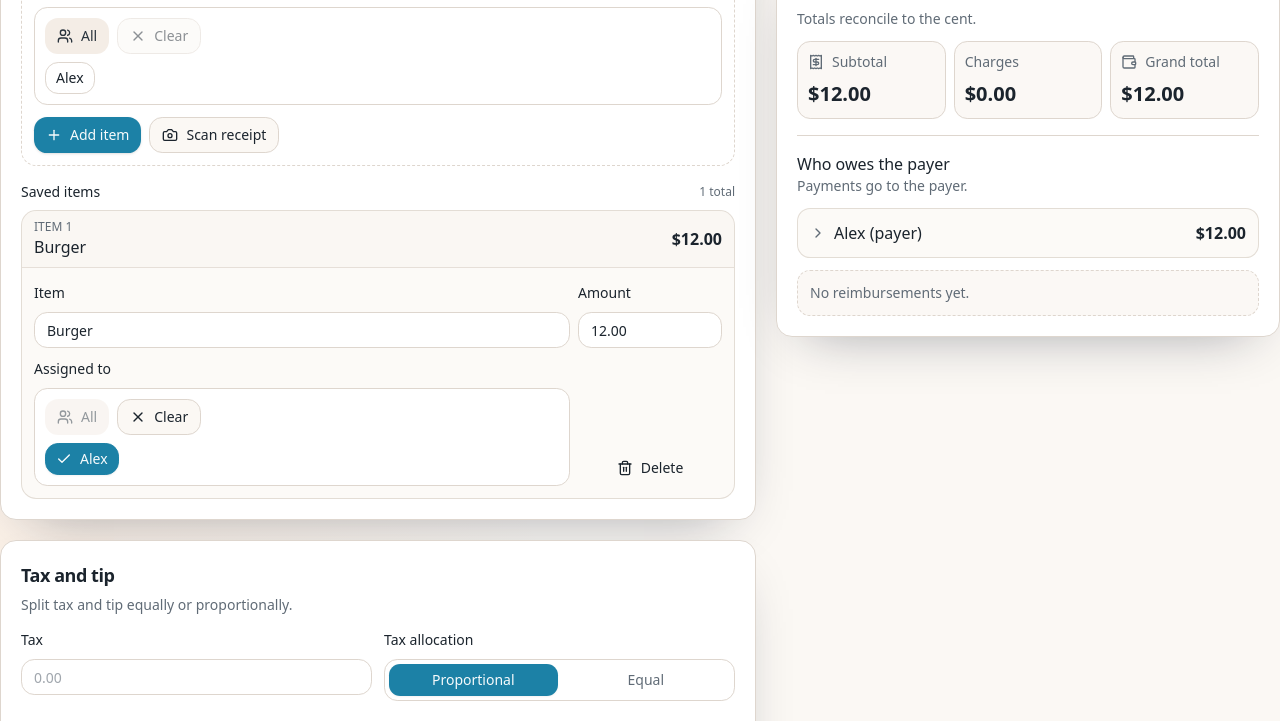
Test: SplitEditorPage › does not save while an existing item edit is invalid but uncommitted
The image size is (1280, 721).
(page scrolled)
Replace the text in the 2nd field labelled "Amount" with "0" at {"x": 650, "y": 330}, box [578,312,722,348]
(page scrolled)
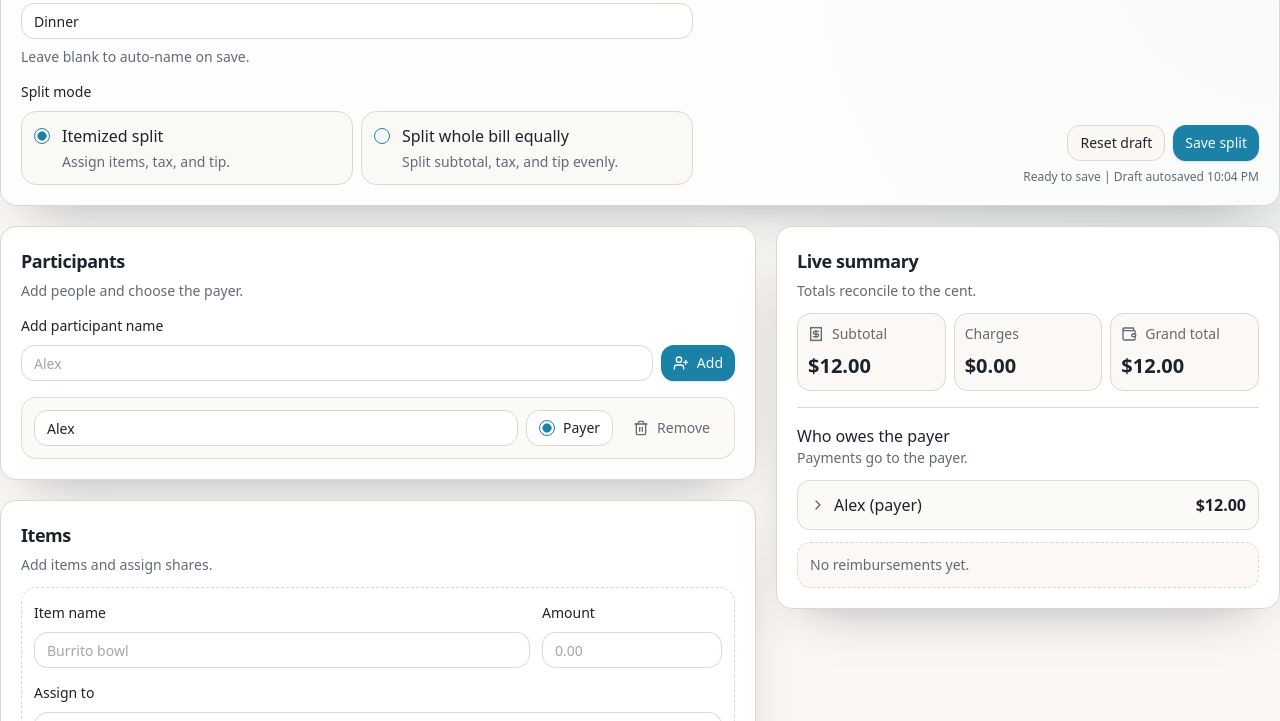
Click the button "Save split".
click(1216, 143)  # box [1173,125,1259,161]
(page scrolled)
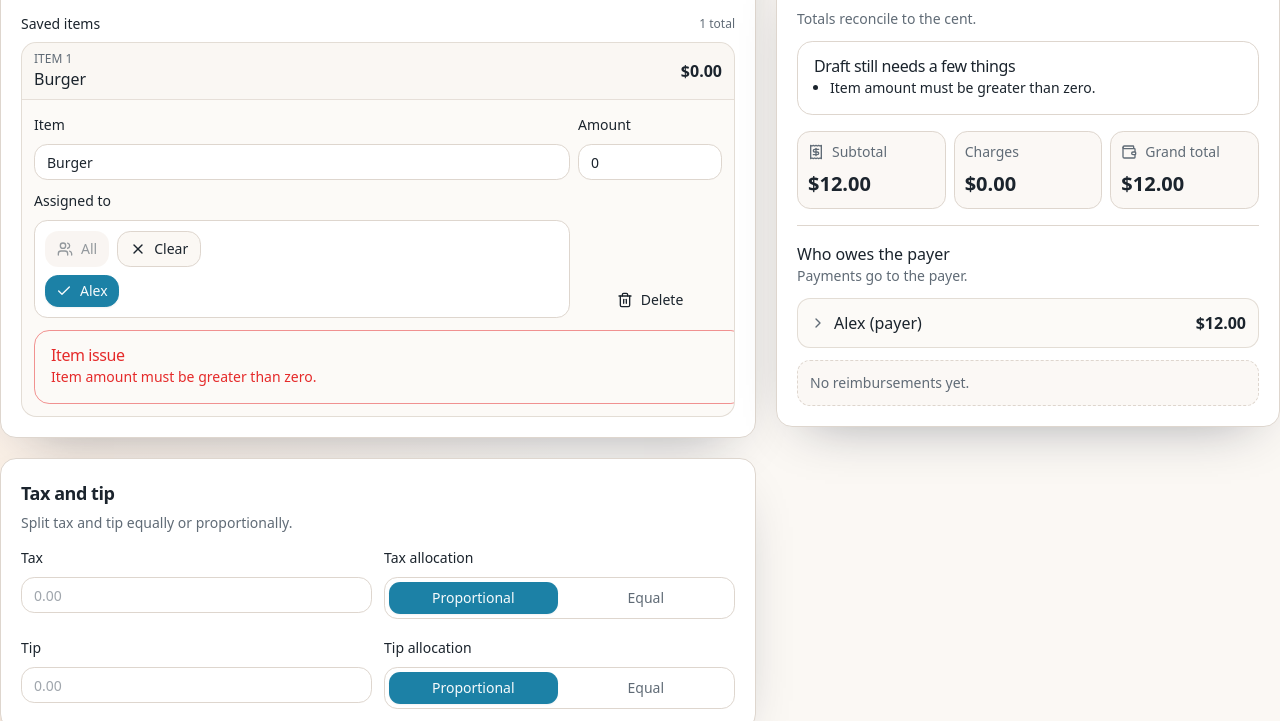
expect the text "Item amount must be greater than zero." is shown: met, box [51,367,316,386]
